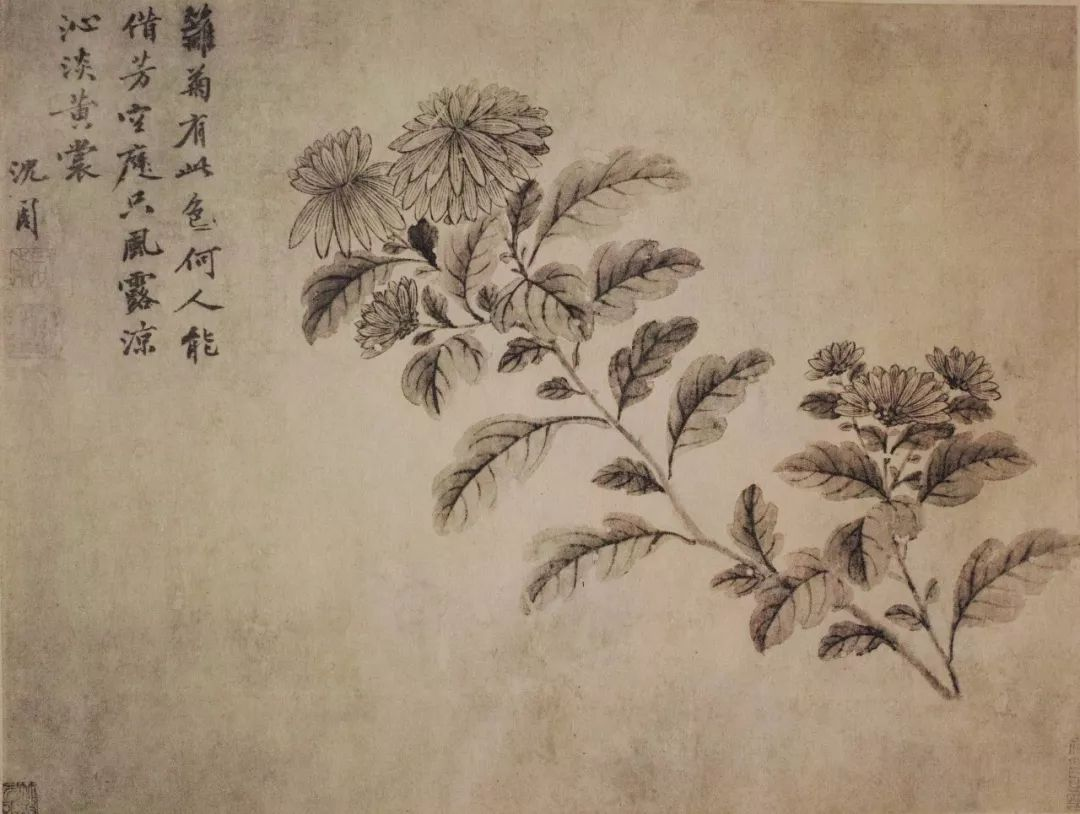flower: (325, 250, 592, 370), (732, 496, 906, 669), (813, 356, 1009, 495), (416, 103, 541, 231), (435, 420, 562, 531), (300, 133, 404, 249), (950, 544, 1068, 636), (515, 534, 651, 597), (674, 361, 760, 437), (571, 162, 669, 219), (618, 331, 675, 423), (906, 621, 961, 689), (667, 501, 732, 556), (605, 257, 679, 300), (570, 372, 616, 434), (612, 463, 667, 495), (624, 424, 657, 457)
